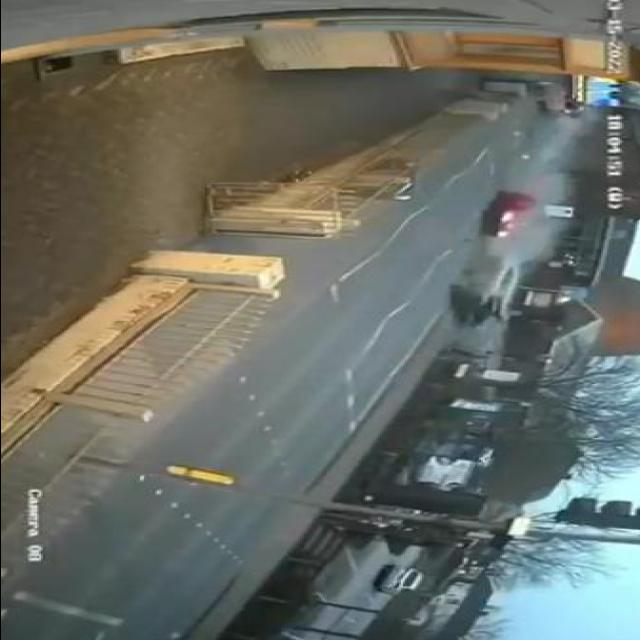accident: (433, 183, 547, 329)
